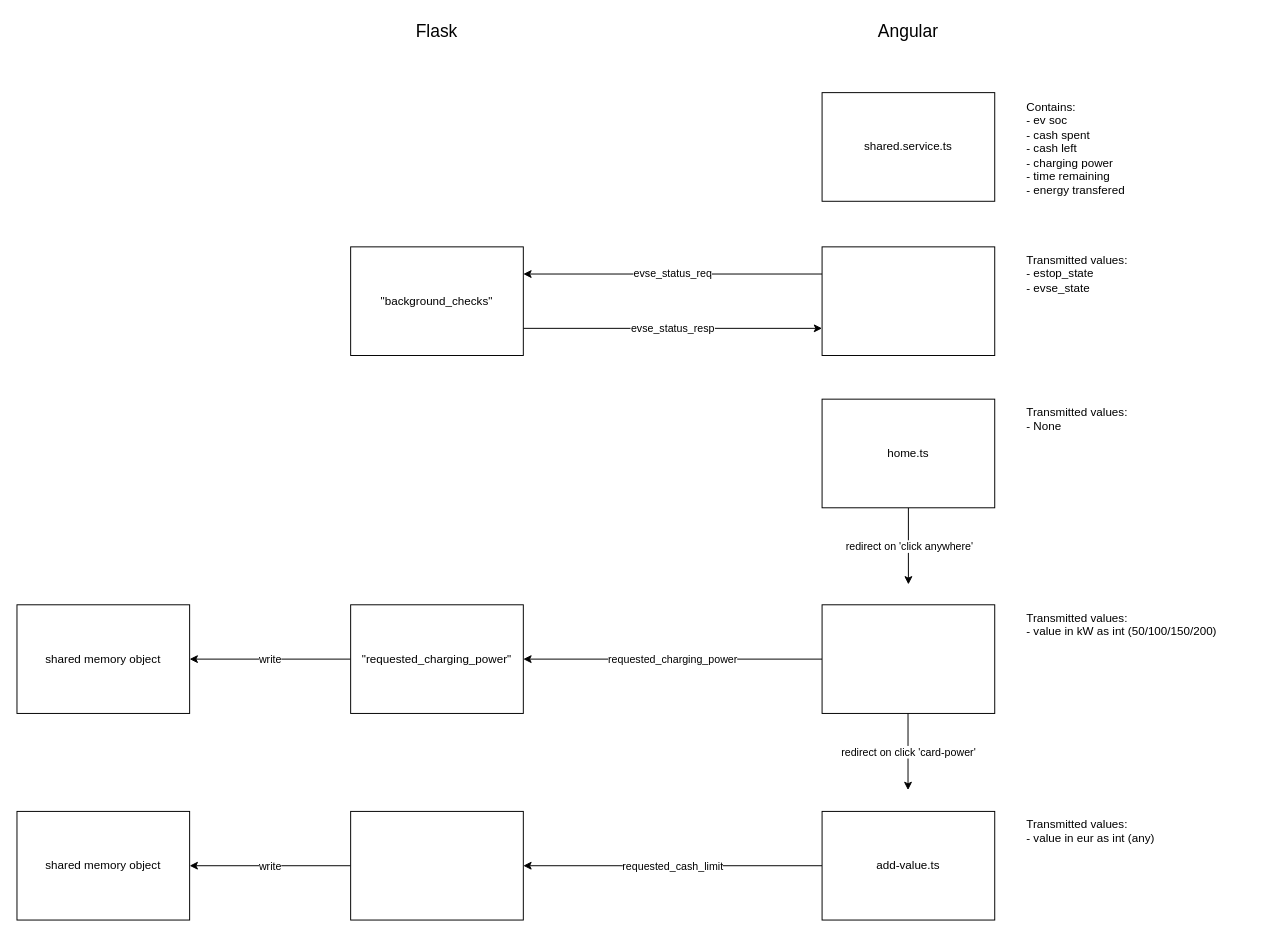
Some shapes in this 1280 by 937 pixel diagram are drawn without their labels. Each missing label, with the centre of its shape:
"requested_cash_limit": point (436, 865)
header.ts: point (908, 301)
select_power.ts: point (908, 658)
